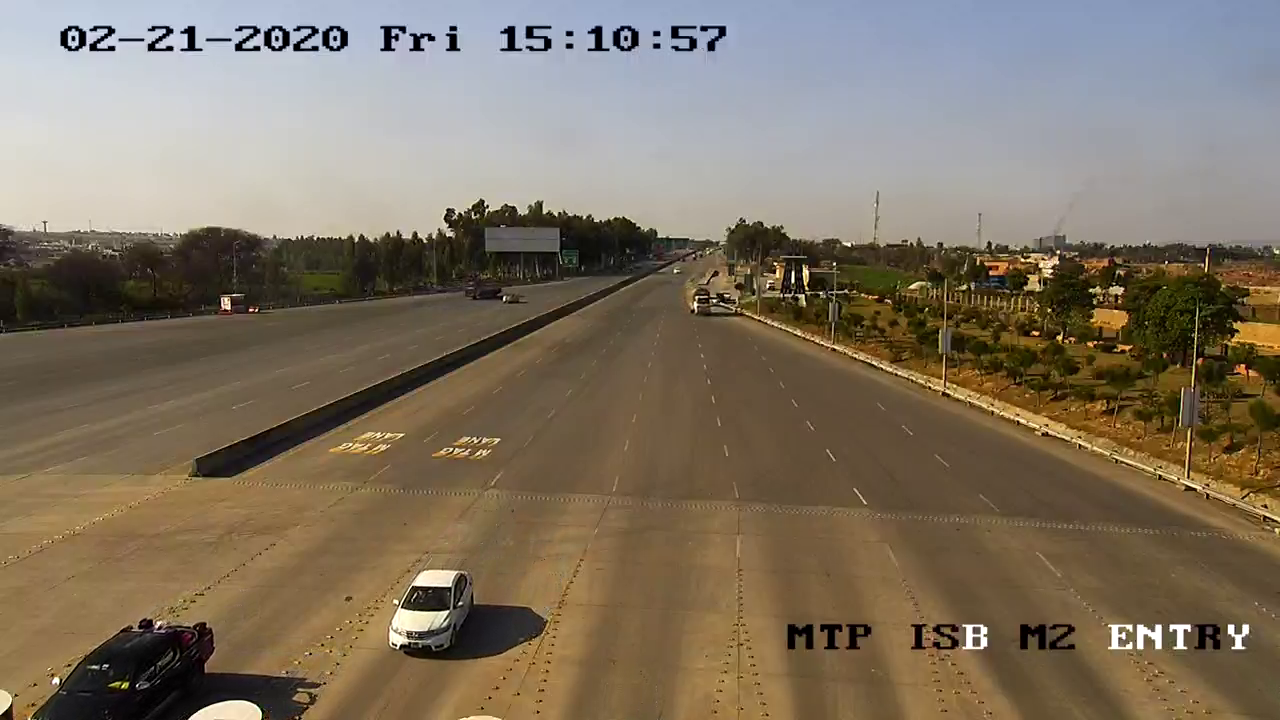f1: (383, 563, 487, 663)
